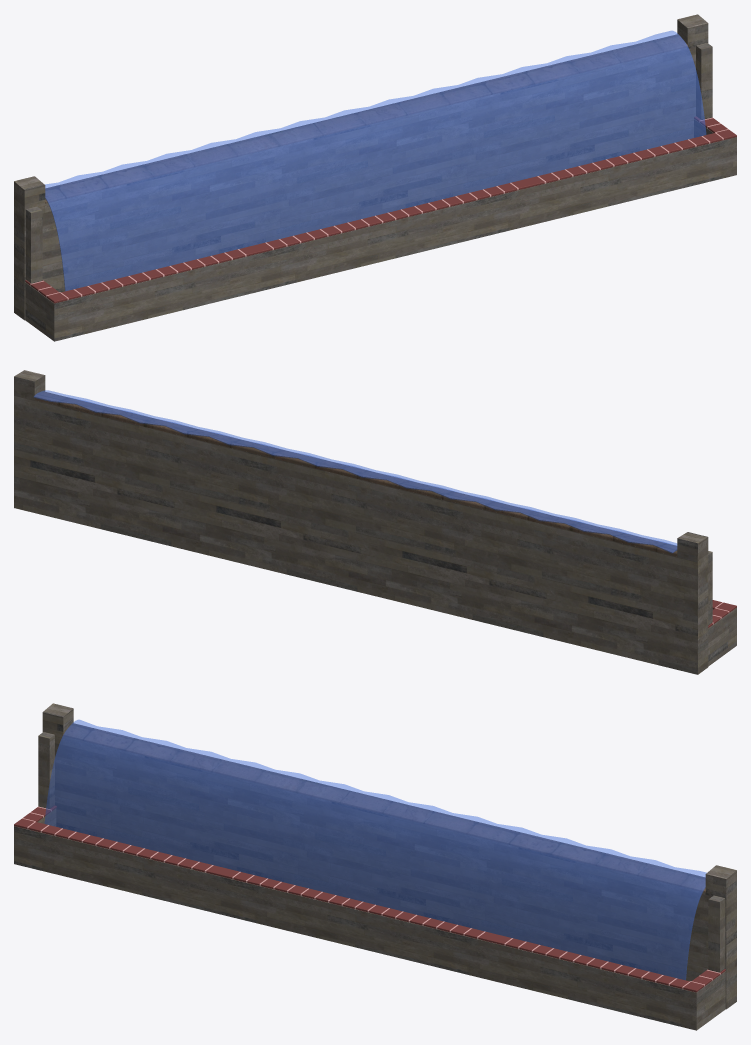
Rendered from infinity-edge.glb.
3 renders of one model, top to bottom at view 1: azimuth 30°, elevation 25°; view 2: azimuth 150°, elevation 25°; view 3: azimuth 330°, elevation 25°, orthographic.
Parts seen in each view (by area): view 1: Infinity edge; view 2: Infinity edge; view 3: Infinity edge.
Boxes of the visible parts, bbox=[...] form: Infinity edge: bbox=[14, 14, 736, 341]; Infinity edge: bbox=[14, 370, 736, 674]; Infinity edge: bbox=[14, 703, 736, 1030].
Size of the model in its own units: 10 by 1.84 by 1.08.
Materials: 5 (2 with a texture image).
